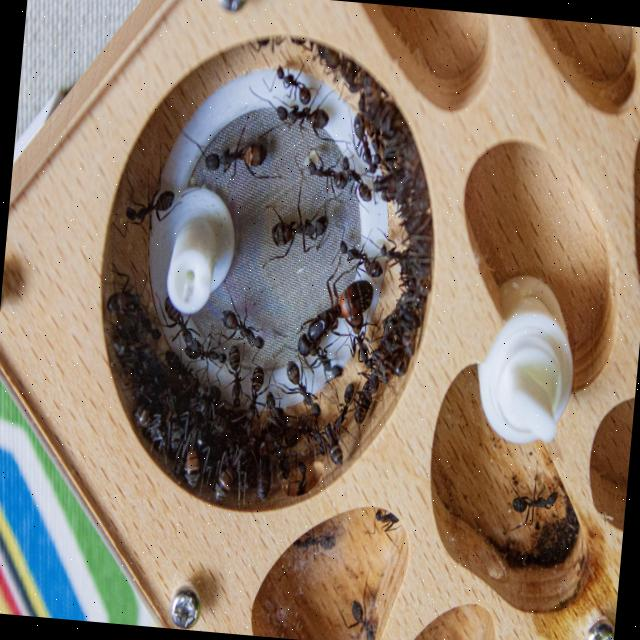Medior: (184, 112, 272, 202), (262, 180, 333, 274), (260, 84, 332, 142)
Minor: (114, 150, 184, 242), (220, 288, 270, 360), (300, 147, 350, 200), (259, 57, 313, 104), (336, 150, 376, 212)
Queen: (288, 251, 378, 363)
